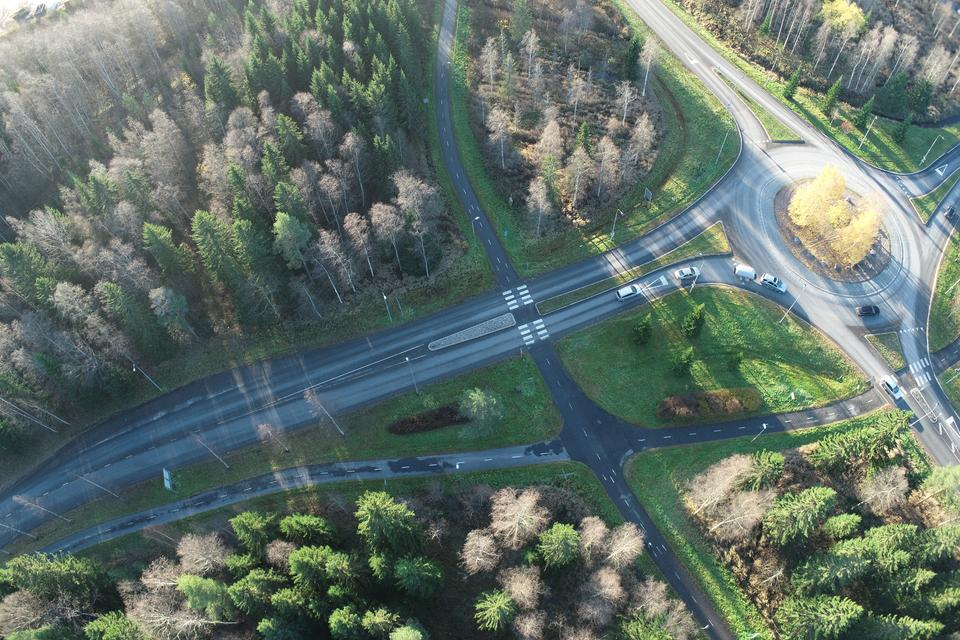intersection: (481, 263, 573, 372), (842, 355, 960, 425)
roundabout: (663, 101, 960, 342)
